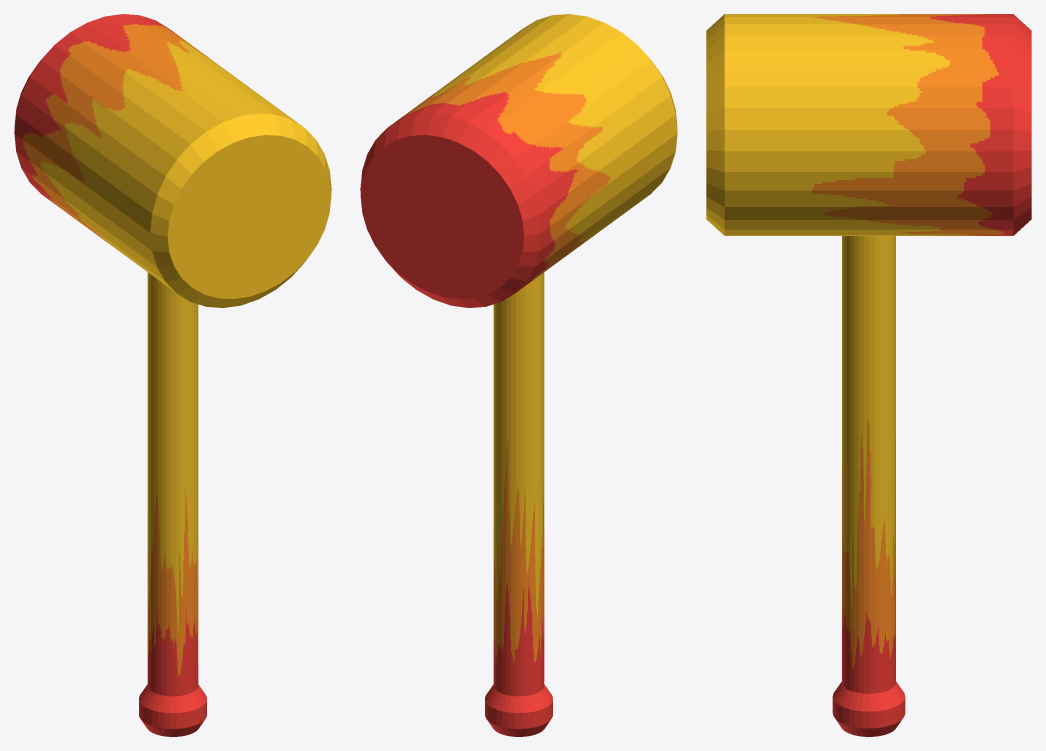
Rendered from whackamolehammer.fbx.
3 renders of one model, left to right at view 1: azimuth 30°, elevation 25°; view 2: azimuth 150°, elevation 25°; view 3: azimuth 270°, elevation 25°, orthographic. The views are drawn at different scales.
Visible parts, largest first — view 1: Cylinder.001; view 2: Cylinder.001; view 3: Cylinder.001.
Part boxes in pixels (x1,y1,x2,y2): Cylinder.001: [14, 14, 331, 736]; Cylinder.001: [360, 14, 677, 736]; Cylinder.001: [706, 14, 1031, 736].
Size of the model in its own units: 31.21 by 109 by 45.63.
